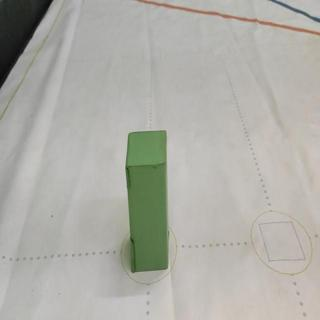greenbox: (125, 129, 169, 274)
